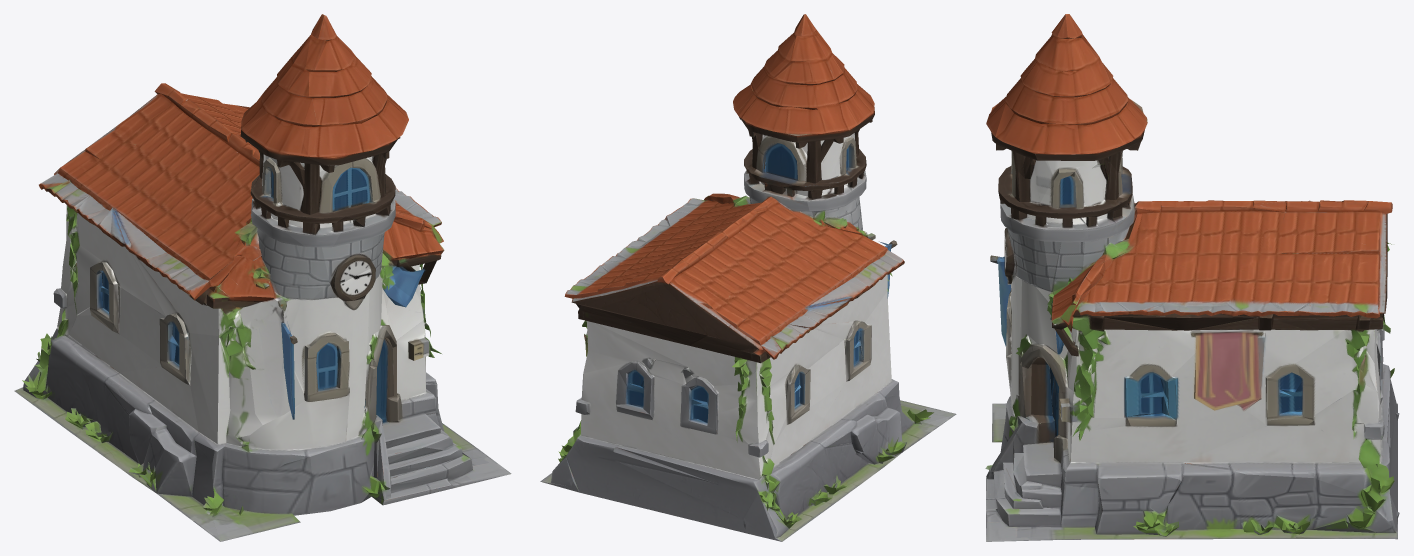
The model's file is town_hall.glb.
The picture shows the model from 3 angles, left to right: view 1: azimuth 30°, elevation 25°; view 2: azimuth 150°, elevation 25°; view 3: azimuth 270°, elevation 25°; orthographic projection. The views are drawn at different scales.
Visible parts, largest first — view 1: town_hall; view 2: town_hall; view 3: town_hall.
Part boxes in pixels (x1=…): town_hall: x1=14, y1=14, x2=511, y2=541; town_hall: x1=540, y1=14, x2=956, y2=541; town_hall: x1=985, y1=14, x2=1399, y2=541.
Size of the model in its own units: 7.55 by 11 by 9.03.
Materials: 1 (1 with a texture image).
